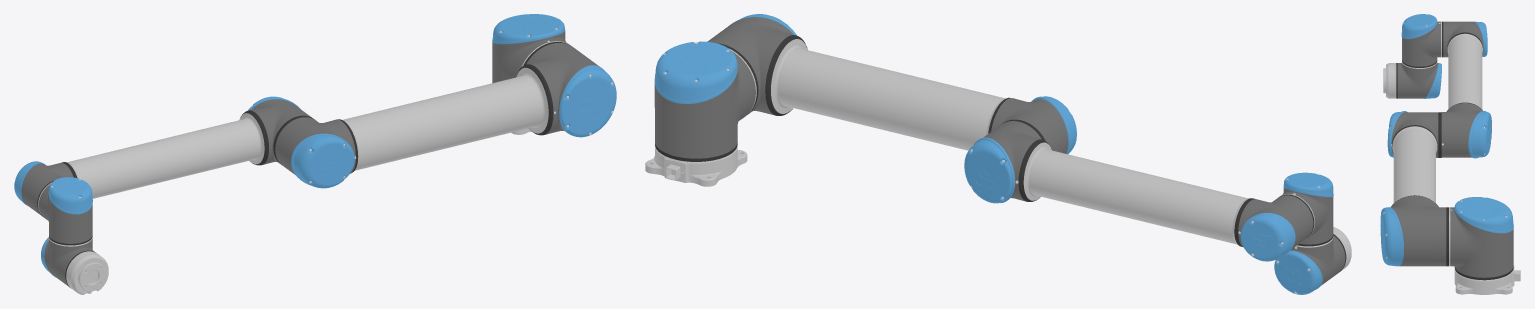
The model's file is UniversalRobots_UR10.glb.
3 views of the same model, side by side, from view 1: azimuth 30°, elevation 25°; view 2: azimuth 150°, elevation 25°; view 3: azimuth 270°, elevation 25° (orthographic). The views are drawn at different scales.
Visible parts, largest first — view 1: link_2, link_3, link_1, link_4, link_6, link_5; view 2: link_2, link_3, link_1, link_5, link_4, link_0; view 3: link_2, link_3, link_1, link_4, link_5, link_0, link_6.
Boxes of the visible parts, x1,y1,x2,y2 form: link_2: [273, 41, 616, 188]; link_3: [14, 96, 311, 216]; link_1: [492, 14, 569, 83]; link_4: [38, 177, 92, 246]; link_6: [67, 252, 108, 294]; link_5: [41, 237, 95, 287]; link_2: [707, 14, 1076, 154]; link_3: [964, 121, 1314, 261]; link_1: [654, 41, 755, 163]; link_5: [1274, 233, 1346, 294]; link_4: [1281, 172, 1333, 247]; link_0: [645, 147, 747, 186]; link_2: [1380, 111, 1450, 266]; link_3: [1441, 21, 1491, 158]; link_1: [1450, 197, 1513, 281]; link_4: [1401, 14, 1440, 68]; link_5: [1395, 63, 1441, 98]; link_0: [1454, 265, 1520, 294]; link_6: [1383, 63, 1395, 98].
Bounding box in the file's own units: 1.31 × 0.2488 × 0.3552.
